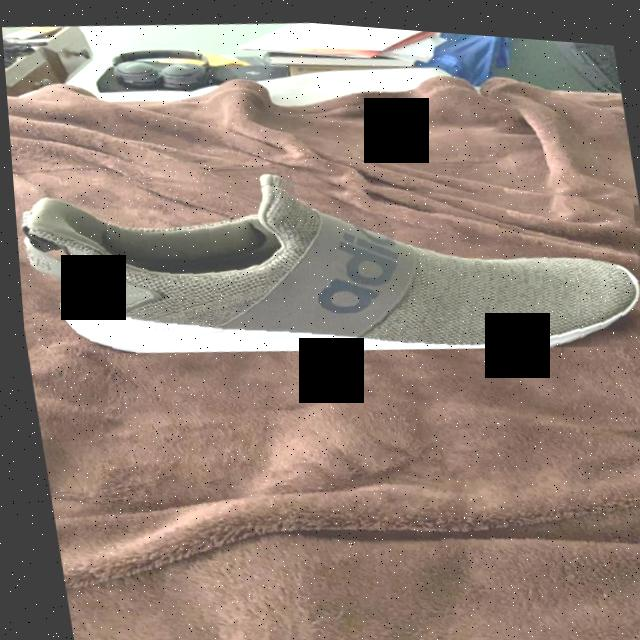shoe: (7, 123, 640, 390)
